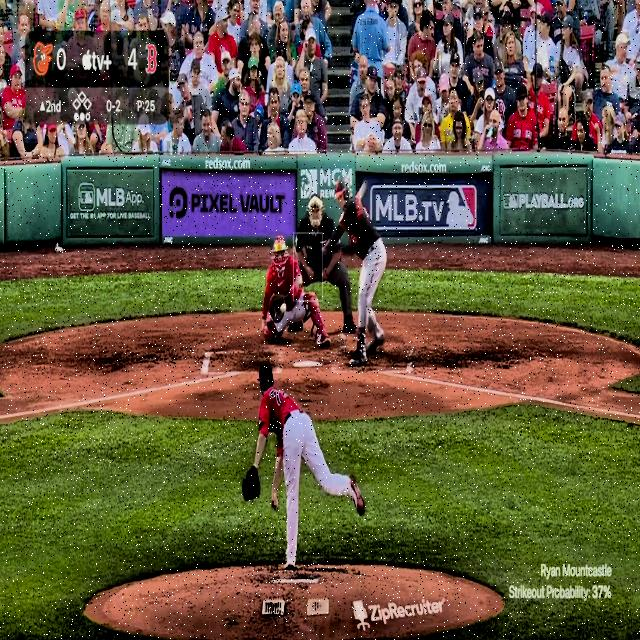baseball: (279, 302, 287, 314)
